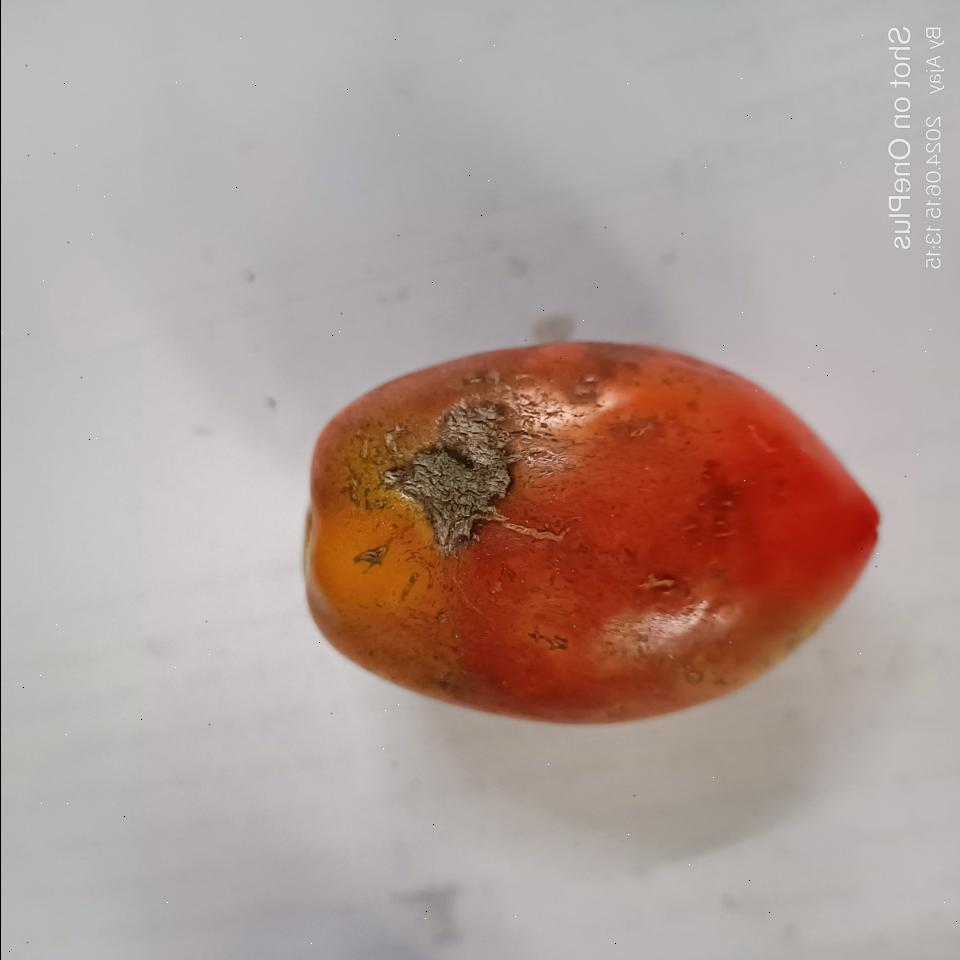Bacterial_Spot: (370, 390, 514, 556), (524, 628, 564, 652)
